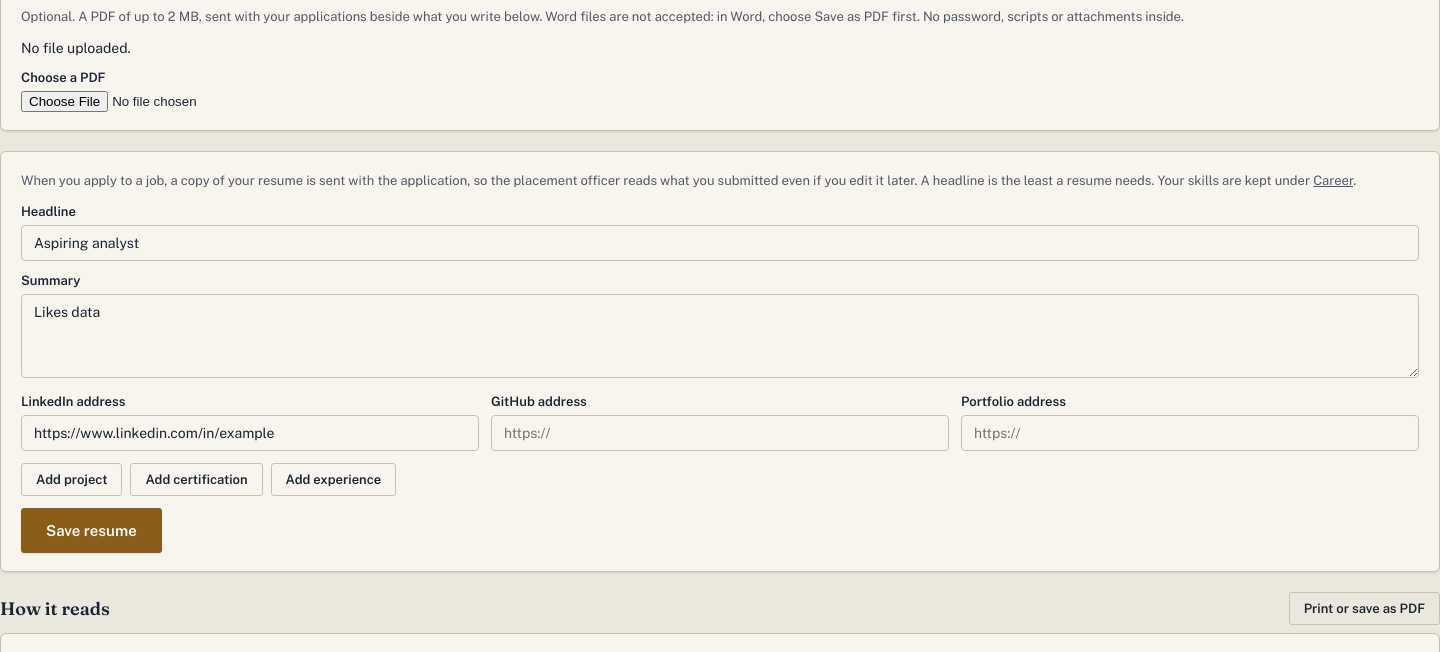
Test case: the student's resume page › adds and removes entries, and says what the server refused
This screenshot has width=1440, height=652.
Check: the field labelled "Headline" is shown, box [21, 225, 1419, 261]
Click the button "Add certification": [196, 479] box [130, 463, 263, 496]
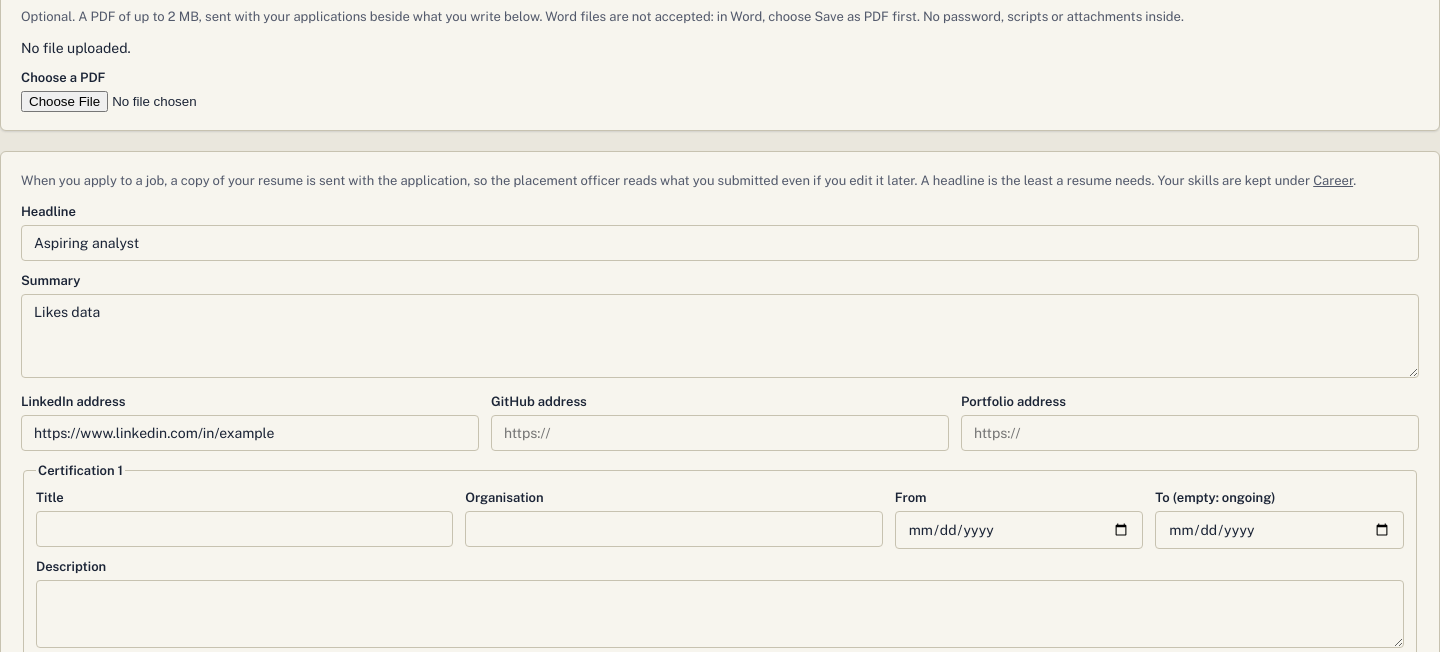
Check: the text "Certification 1" is shown, box [36, 463, 125, 478]
In the field labelled "Title": [245, 529] box [36, 511, 453, 547], type "Cloud basics"
(page scrolled)
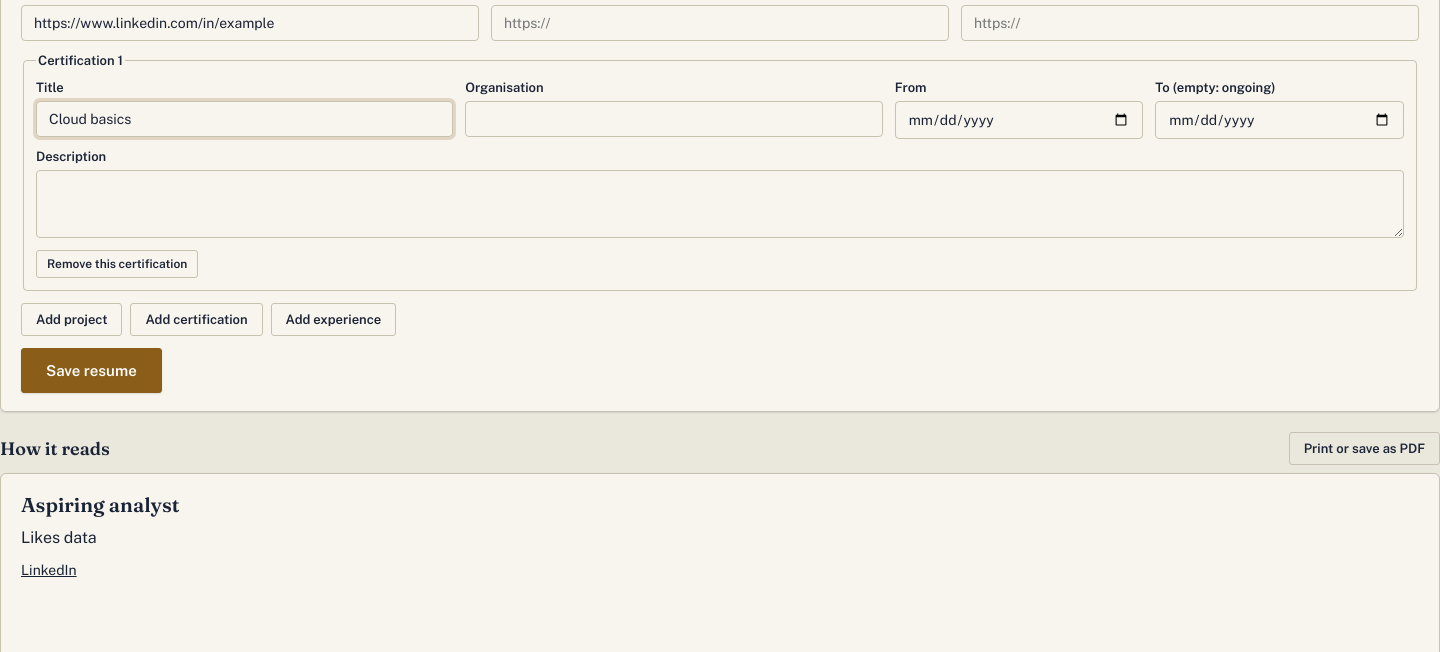
Click the button "Remove this certification": [117, 264] box [36, 250, 198, 278]
(page scrolled)
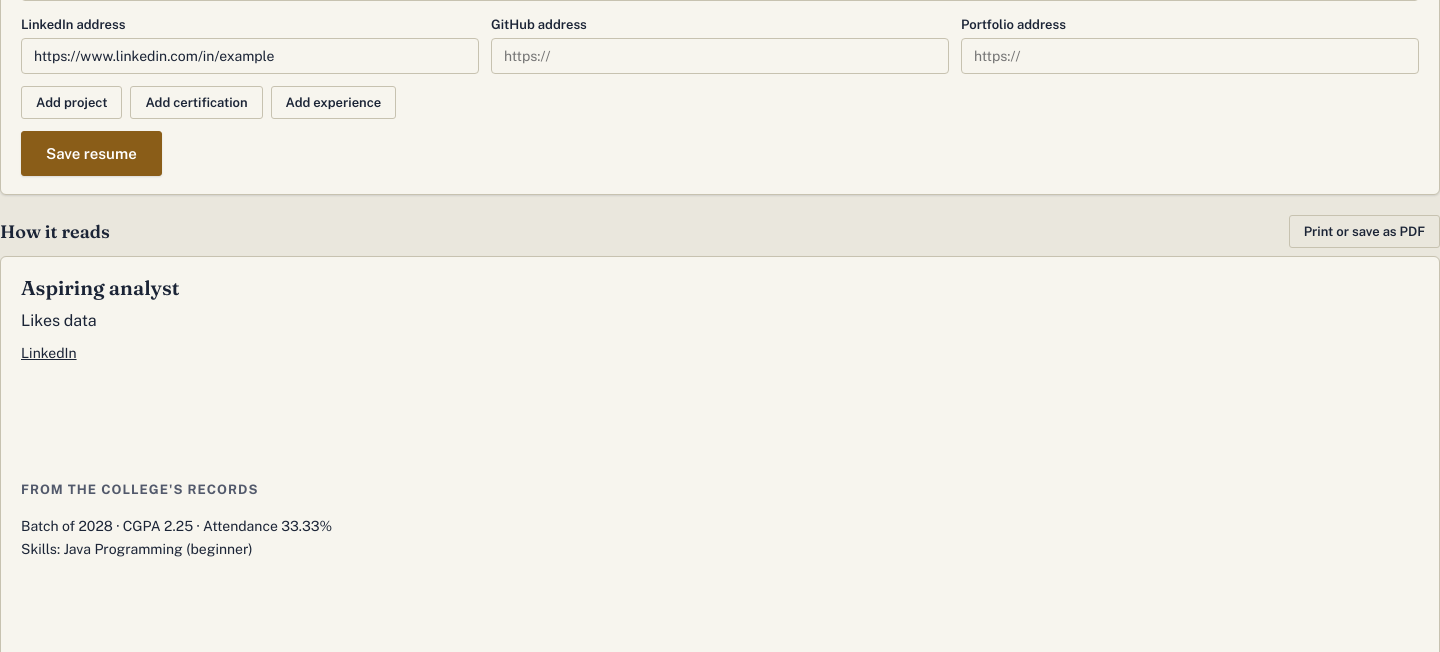
Check: the text "Certification 1" is gone
Click the button "Save resume": [91, 153] box [21, 131, 162, 176]
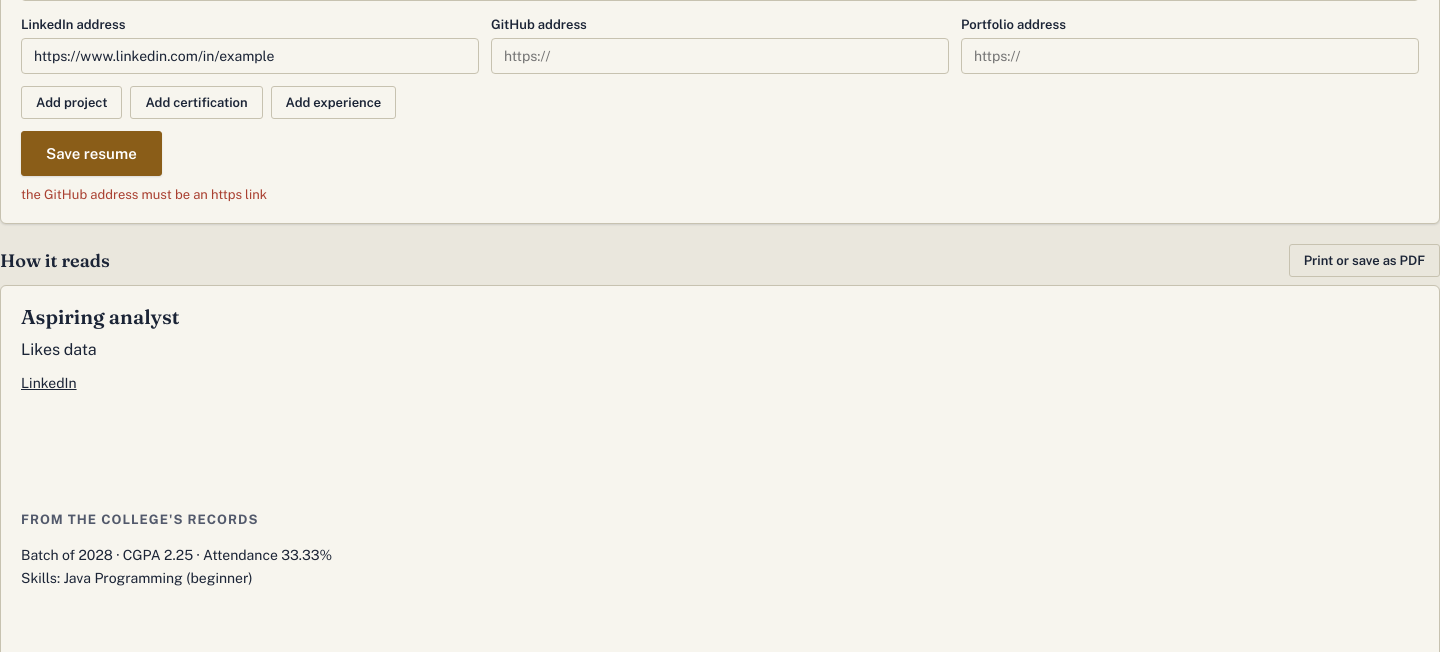
Check: the message shows "https link", box [21, 187, 267, 202]
